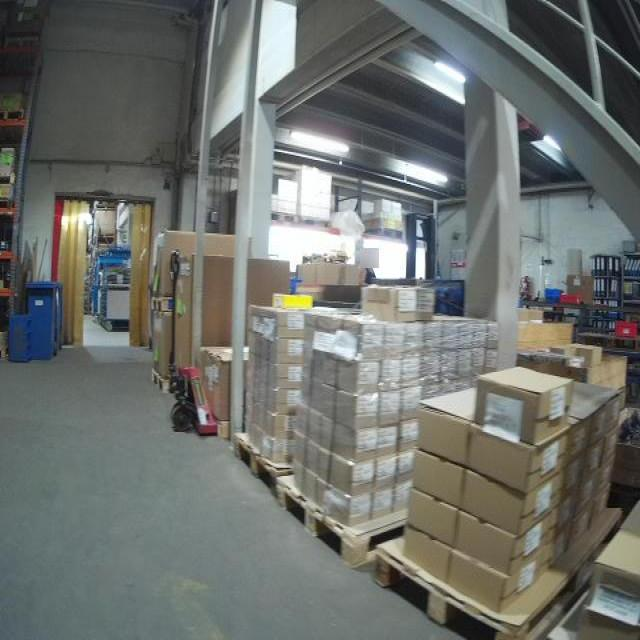pallet: (365, 507, 625, 640), (272, 476, 408, 571), (232, 432, 290, 494), (1, 33, 39, 51), (0, 109, 27, 120)
pallet_truck: (159, 243, 226, 433)
small_load_carrier: (611, 319, 640, 339), (561, 292, 585, 309), (543, 290, 561, 306)
